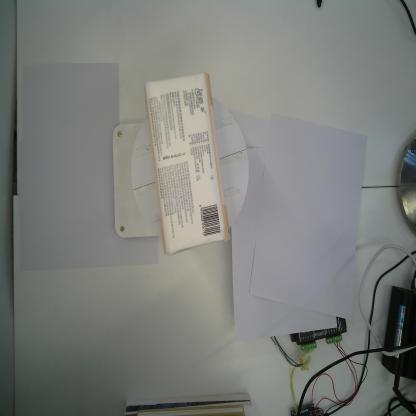Tissue: (142, 69, 232, 258)
